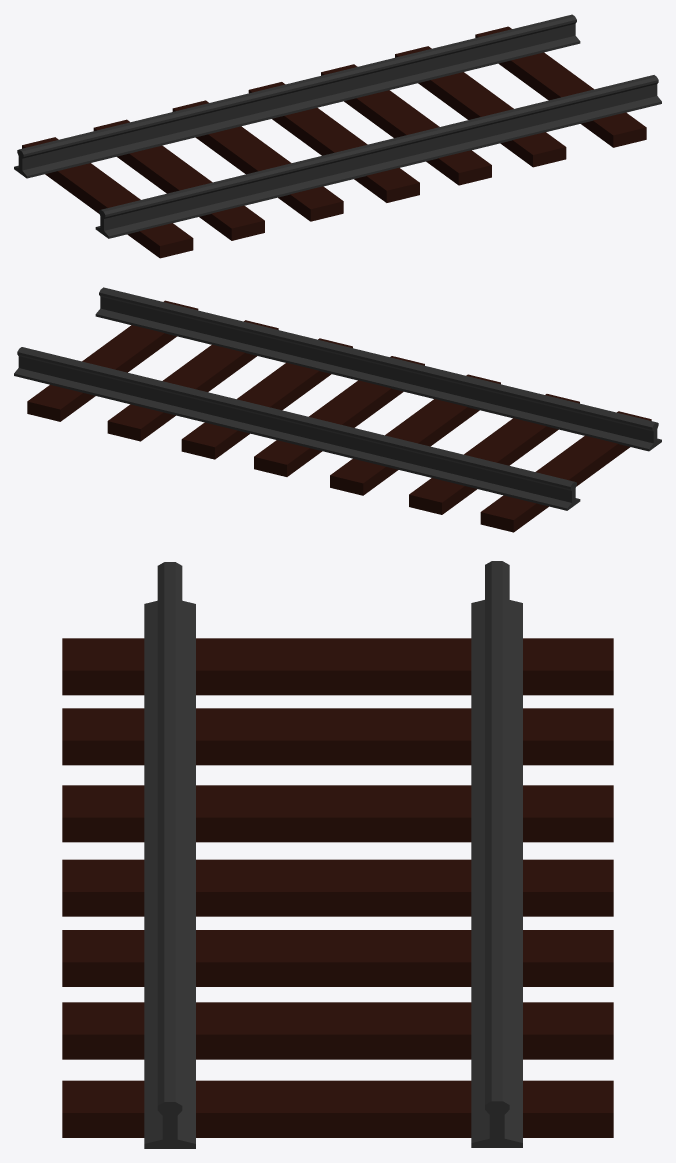
File: rail.obj
The picture shows the model from 3 angles, top to bottom: view 1: azimuth 30°, elevation 25°; view 2: azimuth 150°, elevation 25°; view 3: azimuth 270°, elevation 25°; orthographic projection. The views are drawn at different scales.
Parts seen in each view (by area): view 1: rail_Plane; view 2: rail_Plane; view 3: rail_Plane.
Boxes of the visible parts, <box> form: rail_Plane: <box>14,14,661,258</box>; rail_Plane: <box>14,287,661,532</box>; rail_Plane: <box>62,561,613,1148</box>.
Size of the model in its own units: 5.72 by 0.3549 by 2.47.
